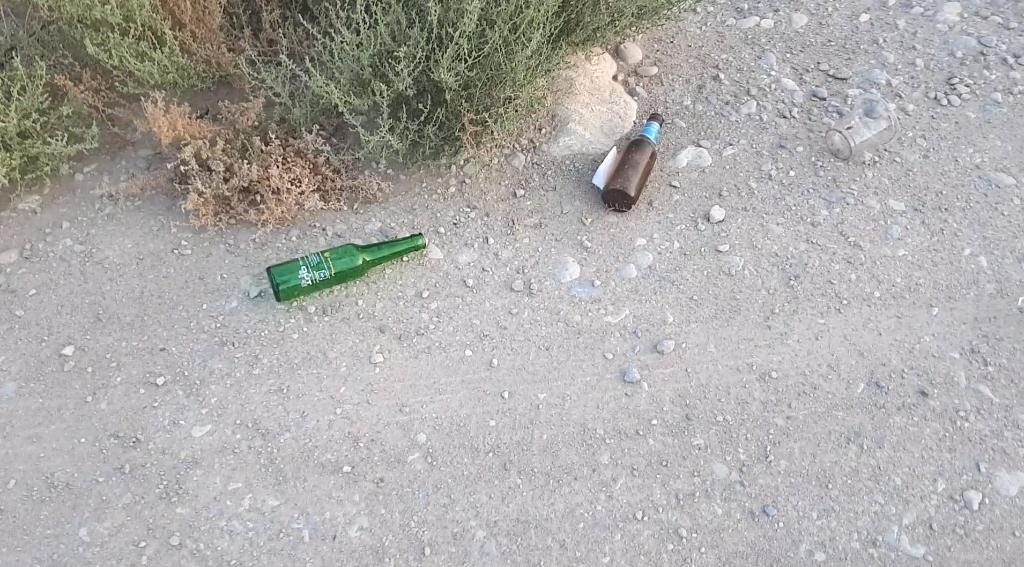garbage: (249, 201, 459, 321), (584, 86, 677, 231), (266, 232, 426, 302), (602, 113, 664, 213)
